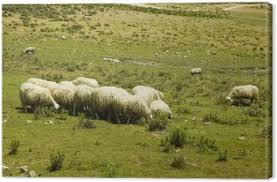sheep: (92, 83, 143, 127), (19, 80, 58, 112), (22, 70, 62, 100), (147, 96, 181, 129), (225, 80, 263, 109), (73, 84, 102, 118), (133, 83, 168, 107), (58, 73, 99, 89), (20, 45, 42, 58), (187, 65, 205, 78)
